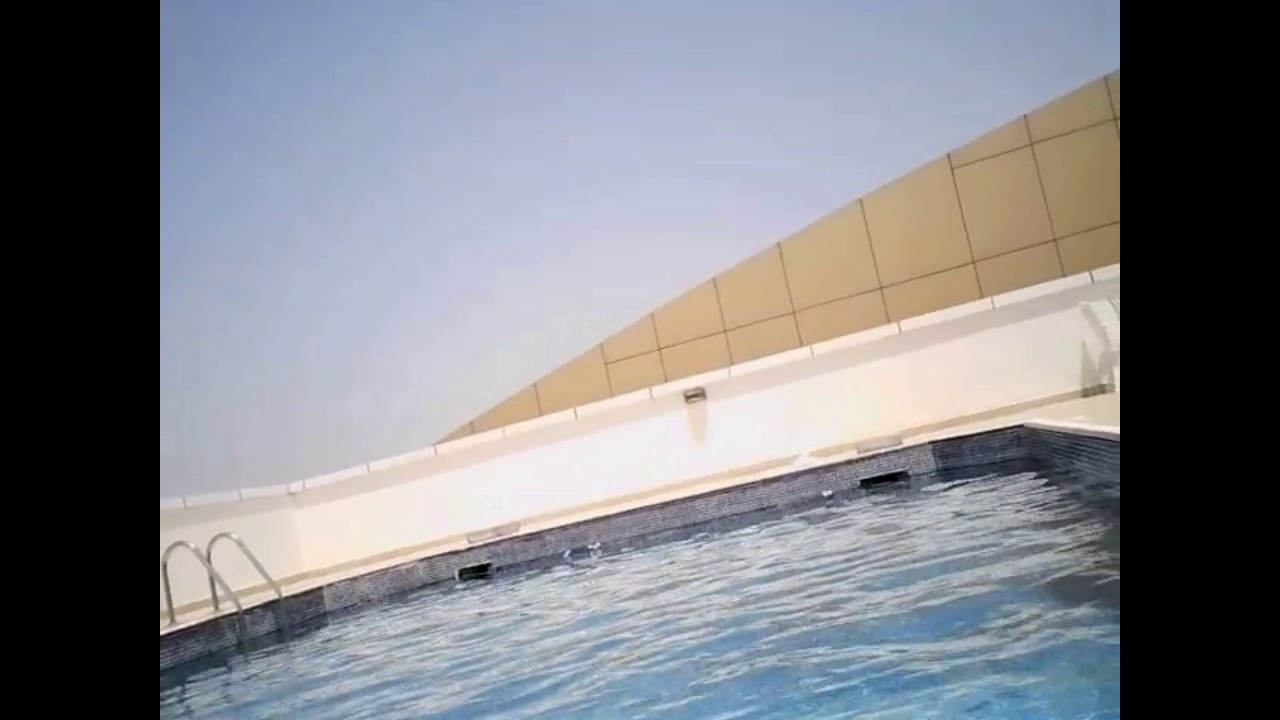debris: (581, 538, 605, 556), (556, 543, 574, 561), (818, 487, 835, 506)
